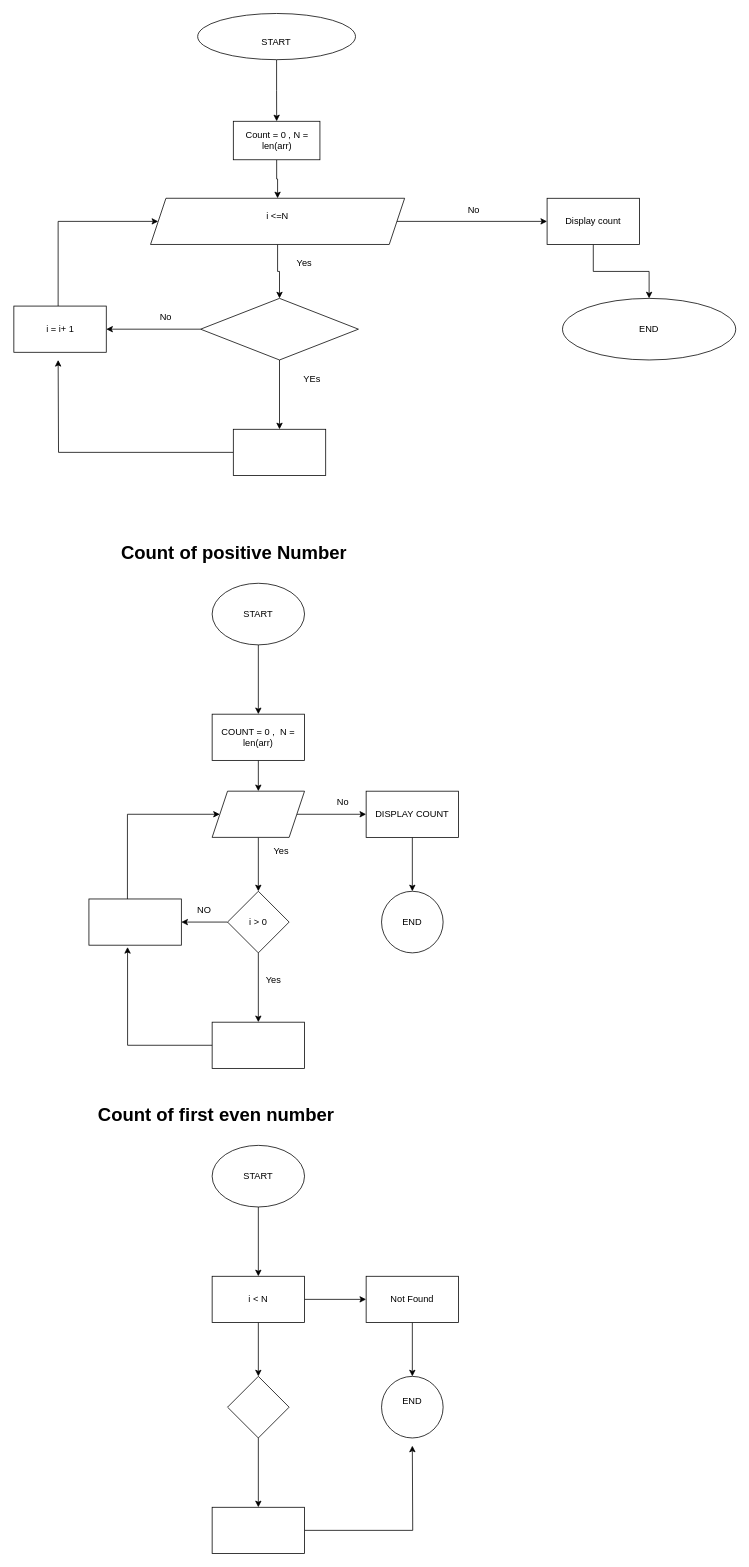
Image size: 749x1567. Some labels were removed from this diagram. Each missing label, with the centre of its shape:
Count = count + 1: (x=258, y=1044)
i % 2 == 0: (x=258, y=1407)
I <= N: (x=258, y=813)
i = i+1: (x=134, y=921)
if i % 2 == 0: (x=279, y=329)
return i: (x=258, y=1530)
Update count = count + 1: (x=279, y=452)
